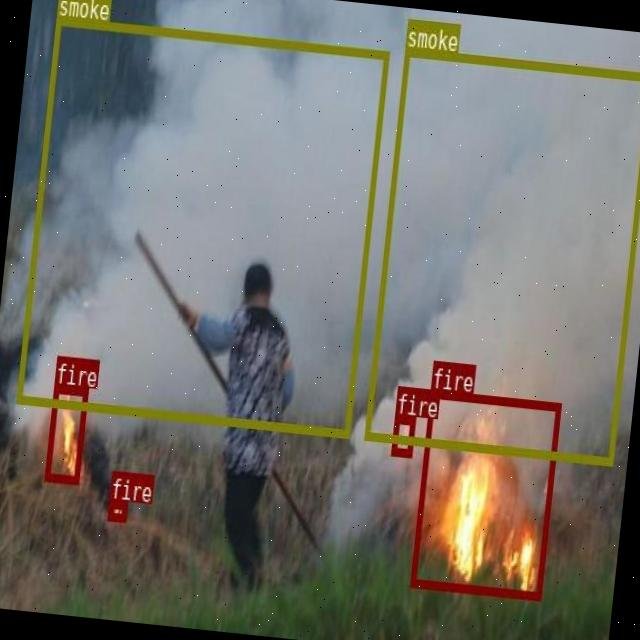fire: (410, 388, 560, 598), (44, 384, 88, 484), (390, 414, 414, 456), (106, 498, 126, 520)
smoke: (14, 16, 388, 436), (364, 47, 640, 463)
